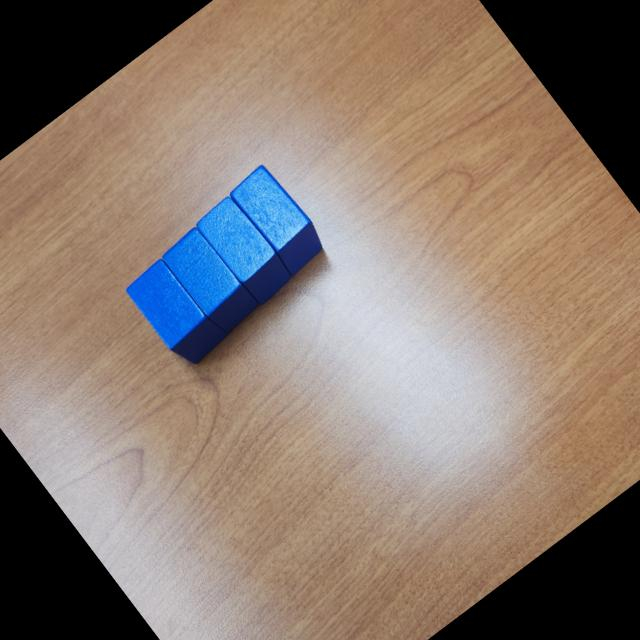blue: (192, 192, 298, 310), (227, 161, 333, 279), (122, 256, 228, 373), (158, 224, 262, 340)
